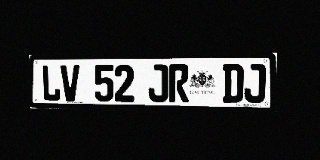2: (114, 64, 134, 102)
5: (94, 65, 114, 102)
D: (222, 64, 244, 103)
J: (244, 64, 266, 103), (148, 64, 168, 102)
L: (41, 65, 61, 101)
R: (169, 64, 189, 102)
V: (61, 65, 80, 101)
